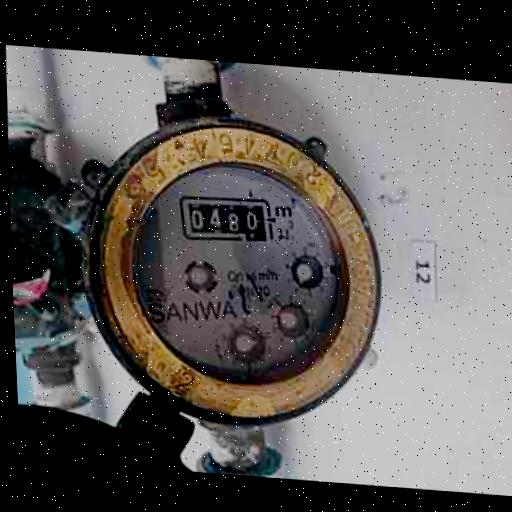0: (241, 204, 268, 243), (189, 203, 210, 233)
4: (205, 203, 228, 233)
8: (224, 204, 247, 236)
border_water_meter_number: (178, 191, 275, 248)
